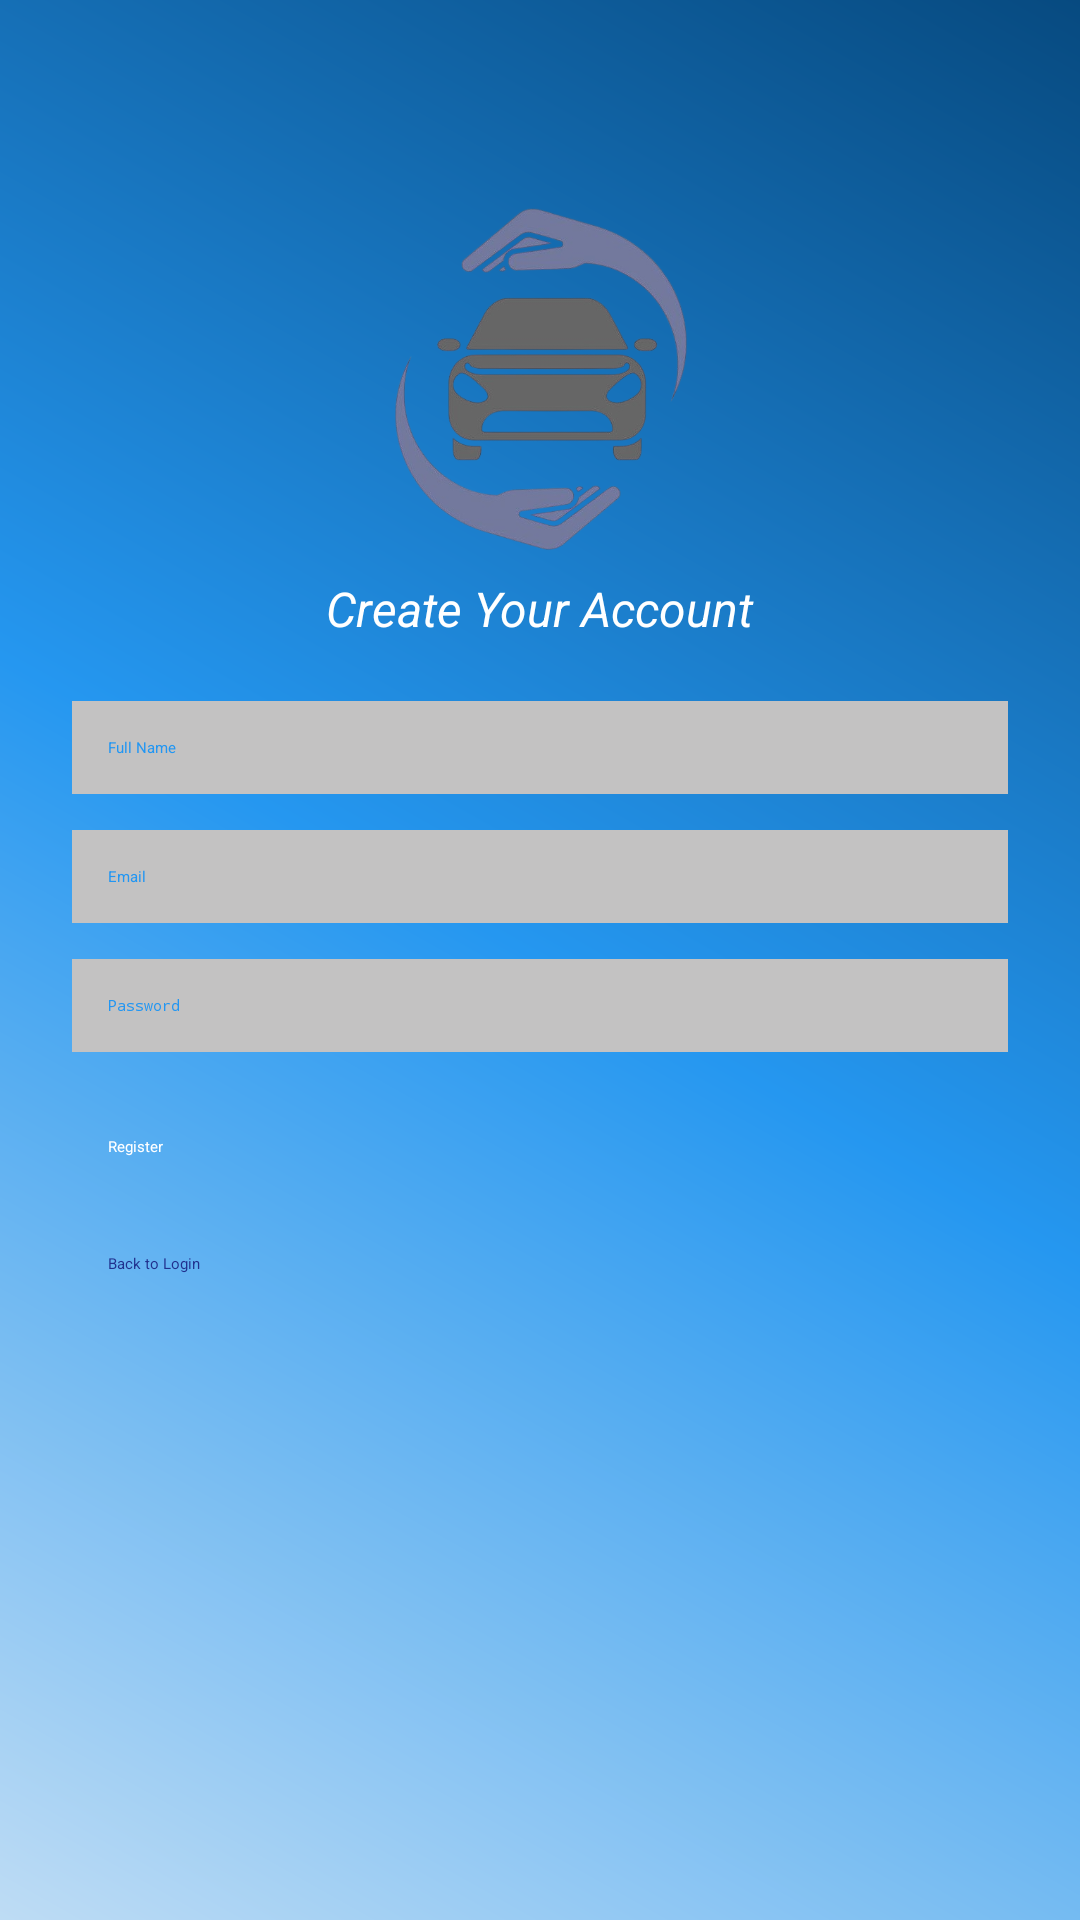

Named icons in this screenshot (1080px×1920px) and their bounding boxes, (x1, y1, x2, y2):
App Icon: (360, 192, 720, 552)
